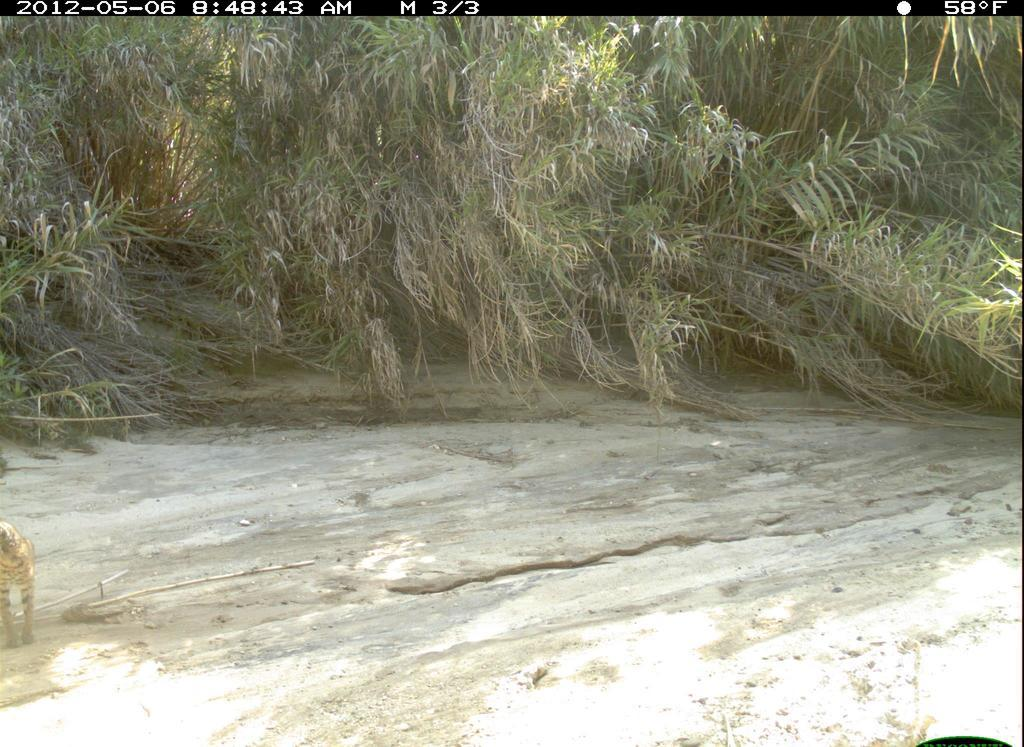bobcat: (1, 510, 41, 650)
